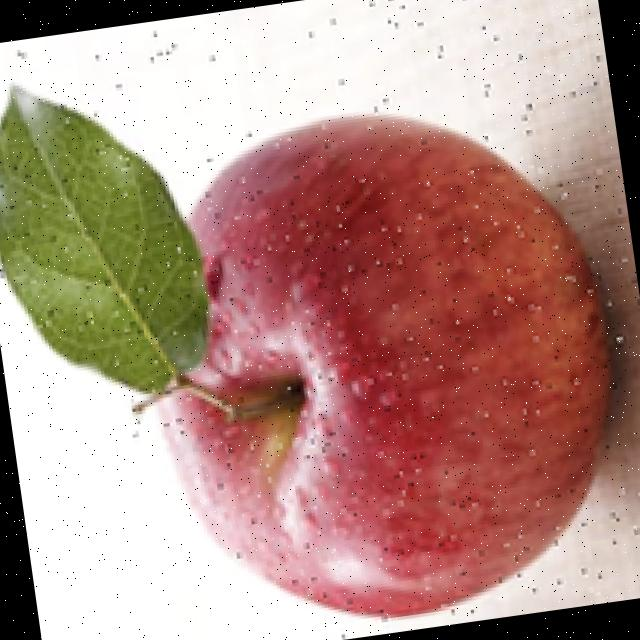apple: (0, 0, 640, 631)
